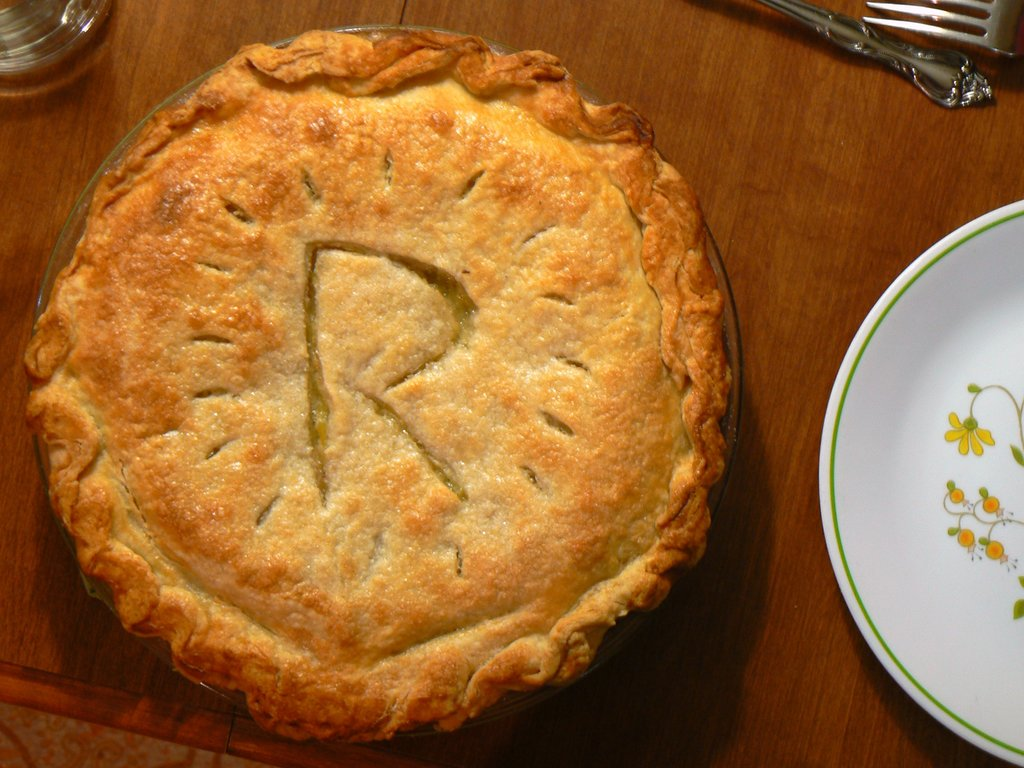plate: (26, 24, 742, 738)
